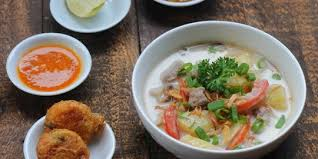soto: (133, 39, 310, 153)
